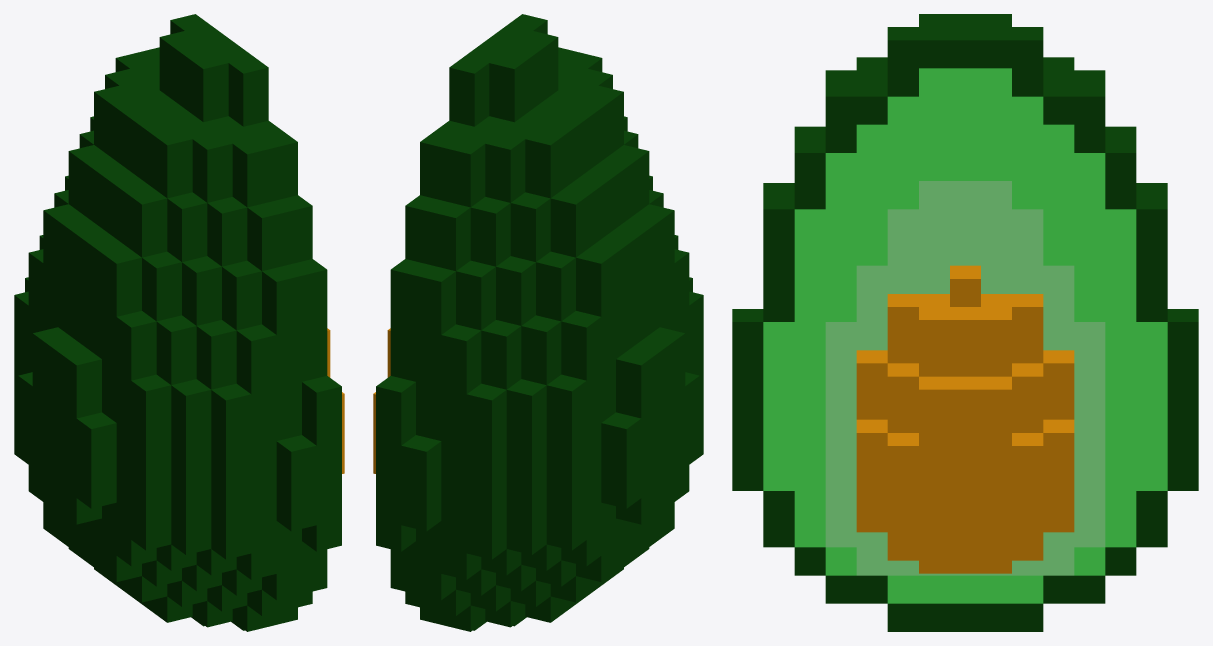
File: Avocado.fbx
3 renders of one model, left to right at view 1: azimuth 30°, elevation 25°; view 2: azimuth 150°, elevation 25°; view 3: azimuth 270°, elevation 25°, orthographic. The views are drawn at different scales.
Visible parts, largest first — view 1: Untitled; view 2: Untitled; view 3: Untitled.
Part boxes in pixels (x1,y1,x2,y2): Untitled: [14, 14, 344, 631]; Untitled: [373, 14, 703, 631]; Untitled: [732, 14, 1198, 631].
Bounding box in the file's own units: 100 × 210 × 150.
